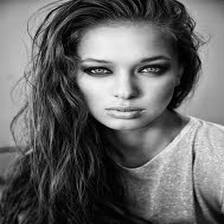no_mask: (78, 21, 176, 127)
